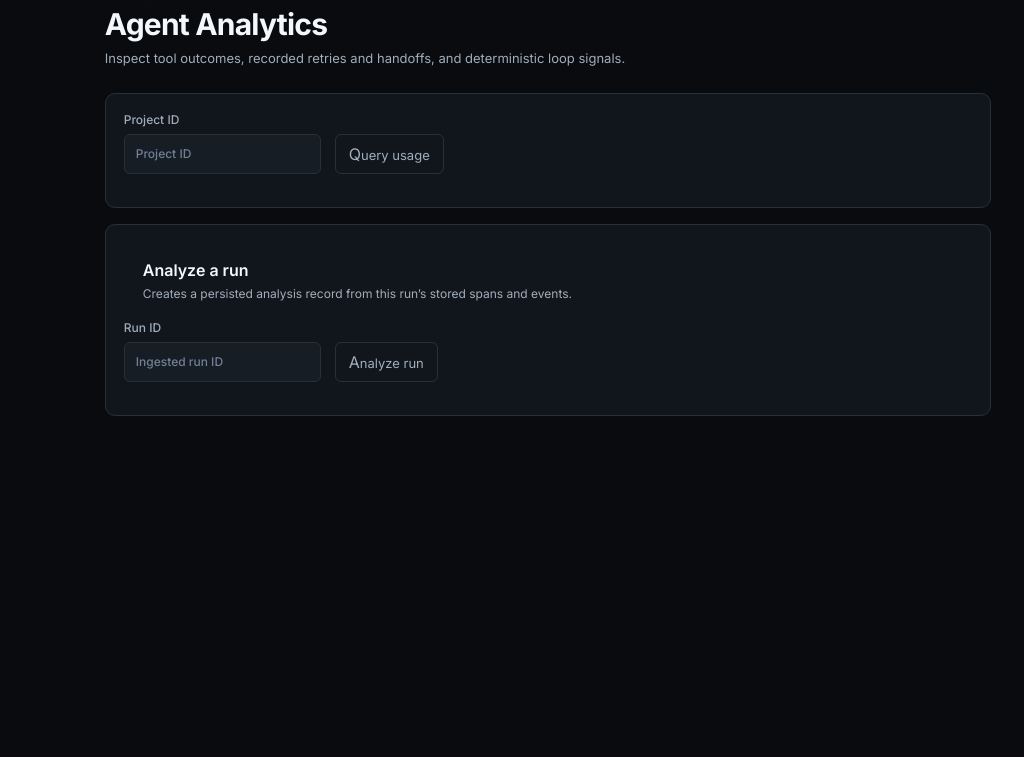
AgentAnalyticsExplorer › shows real aggregate data and run-level derived evidence
The width and height of the screenshot is (1024, 757).
In the field labelled "Project ID": [222, 154] box [124,134,321,174], type "project-a"
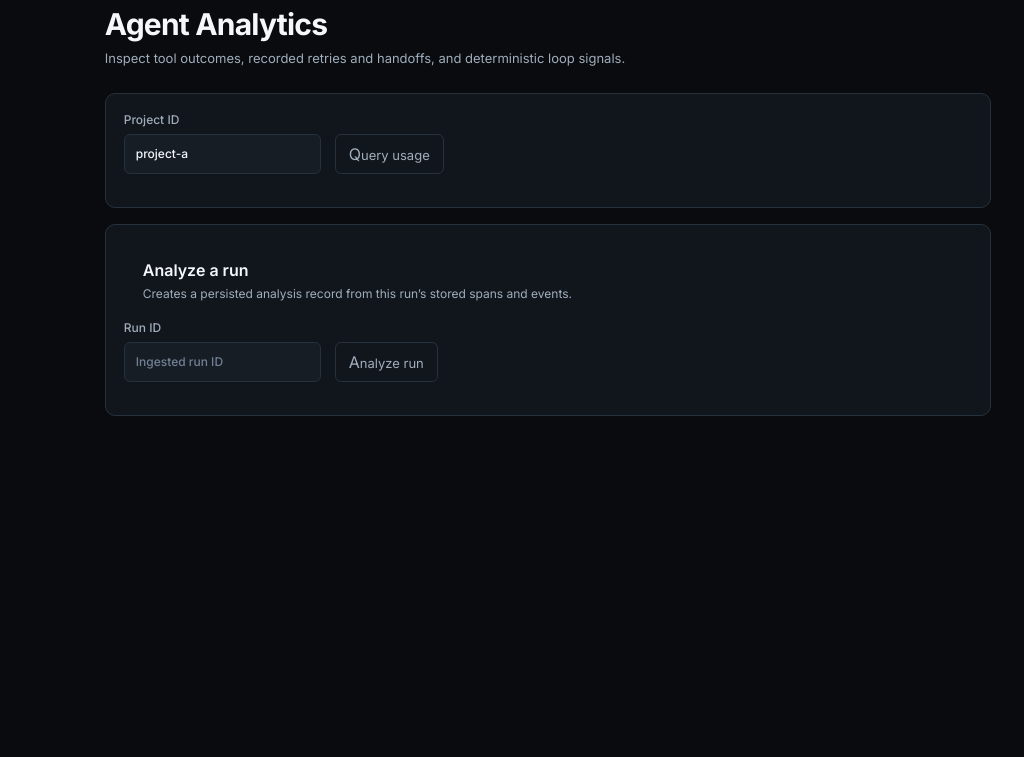
Click the button "Query usage": [389, 154] box [335,134,444,174]
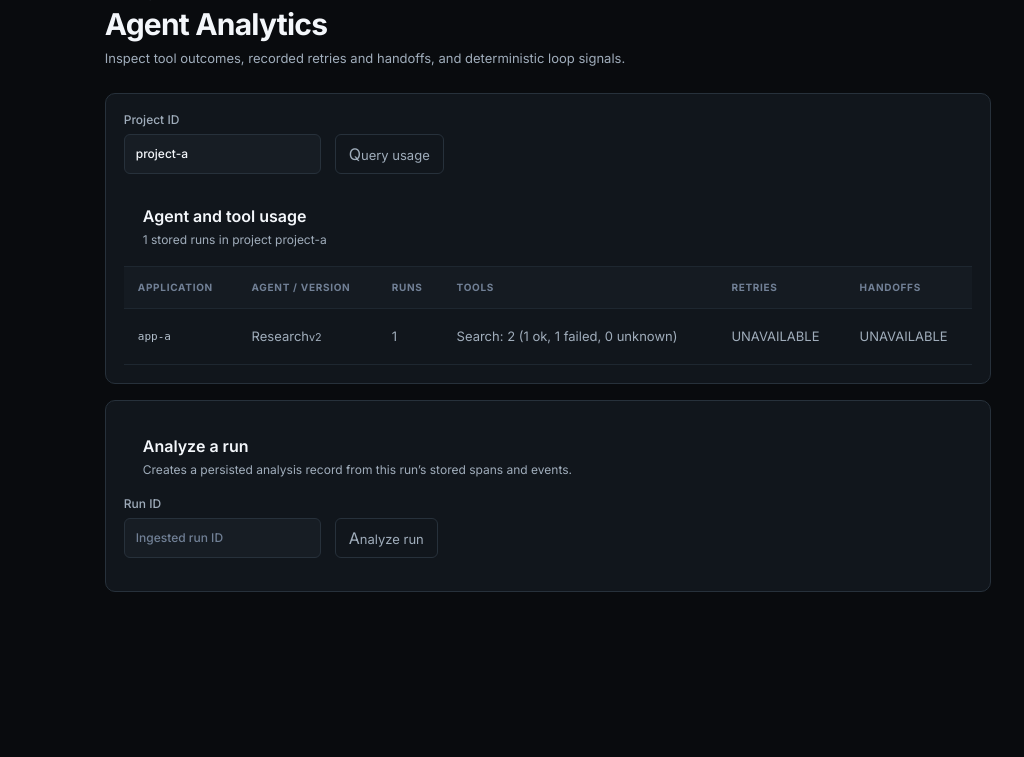
Expected: the text "Search: 2 (1 ok, 1 failed, 0 unknown)" is shown, [443,308,717,364]
Expected: the text "UNAVAILABLE" is shown 2 times, [717,308,846,364]; [846,308,972,364]
In the field labelled "Run ID": [222, 538] box [124,518,321,558], type "run-a"
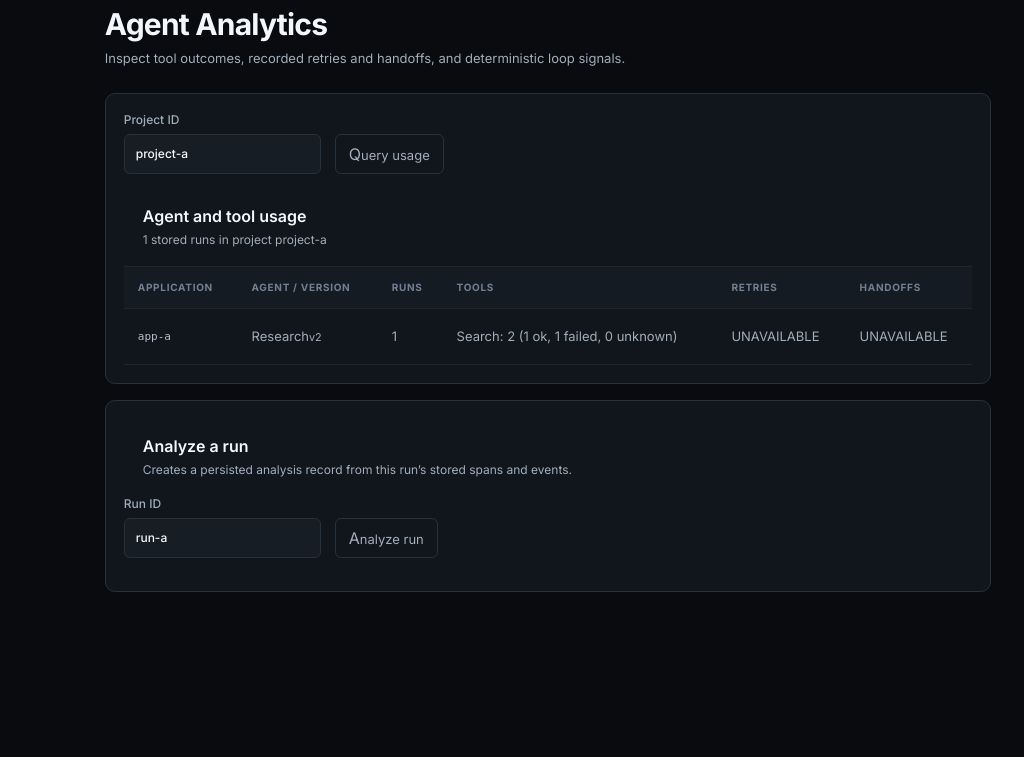
Click the button "Analyze run": [386, 538] box [335,518,438,558]
(page scrolled)
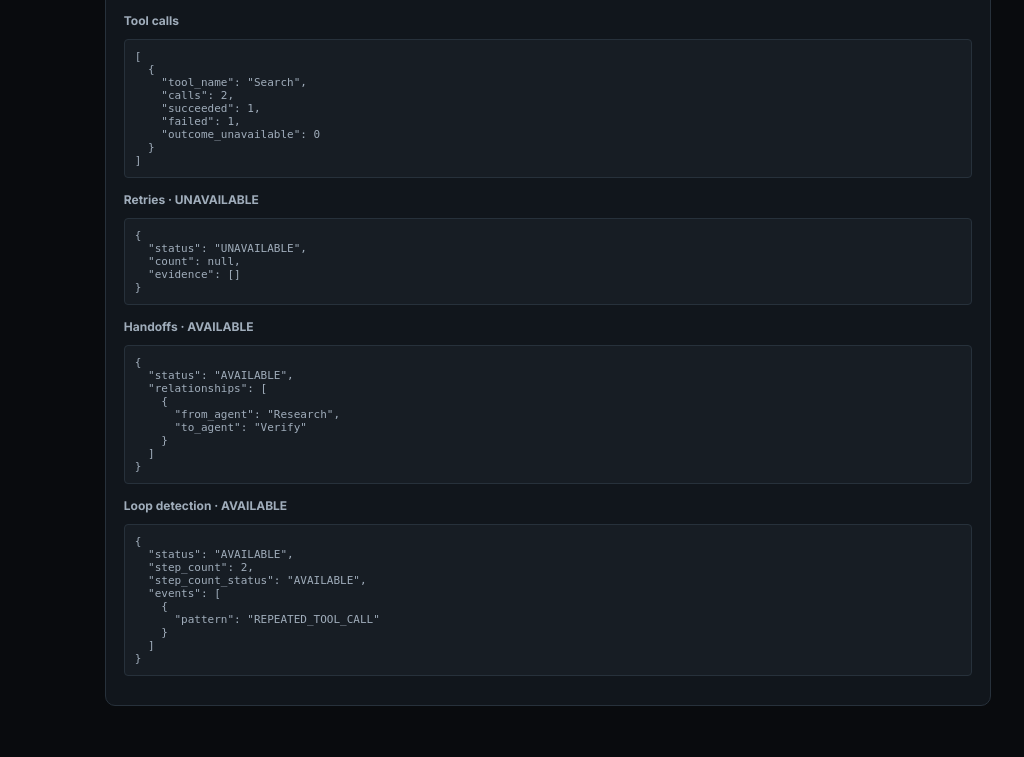
Expected: the text "REPEATED_TOOL_CALL" is shown, [135,534,380,664]
